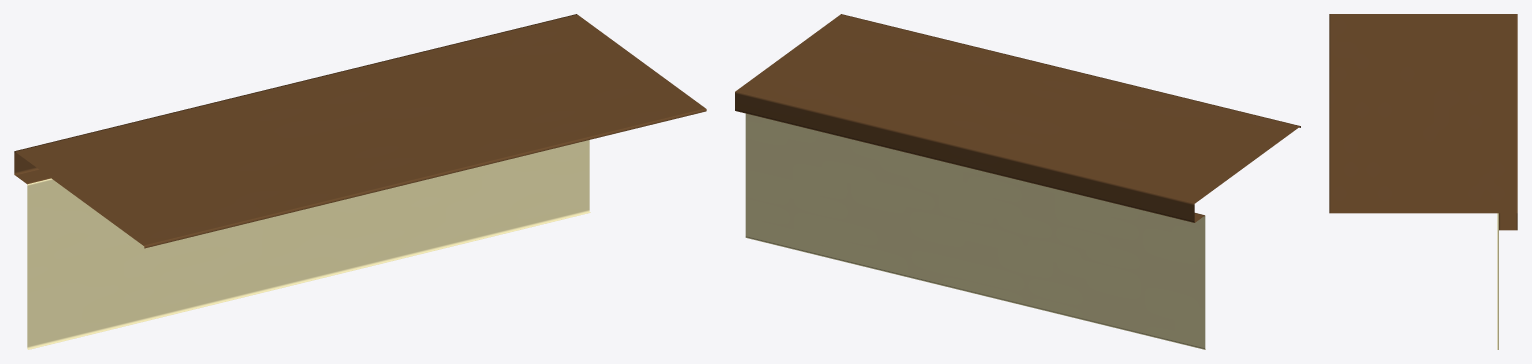
Rendered from SM_WorkingTable.fbx.
The picture shows the model from 3 angles, left to right: view 1: azimuth 30°, elevation 25°; view 2: azimuth 150°, elevation 25°; view 3: azimuth 270°, elevation 25°; orthographic projection. The views are drawn at different scales.
Visible parts, largest first — view 1: SM_WorkingTable; view 2: SM_WorkingTable; view 3: SM_WorkingTable.
Part boxes in pixels (x1,y1,x2,y2): SM_WorkingTable: (14,14,706,349); SM_WorkingTable: (735,14,1300,349); SM_WorkingTable: (1329,14,1517,349).
Size of the model in its own units: 2.5 by 0.8 by 1.
